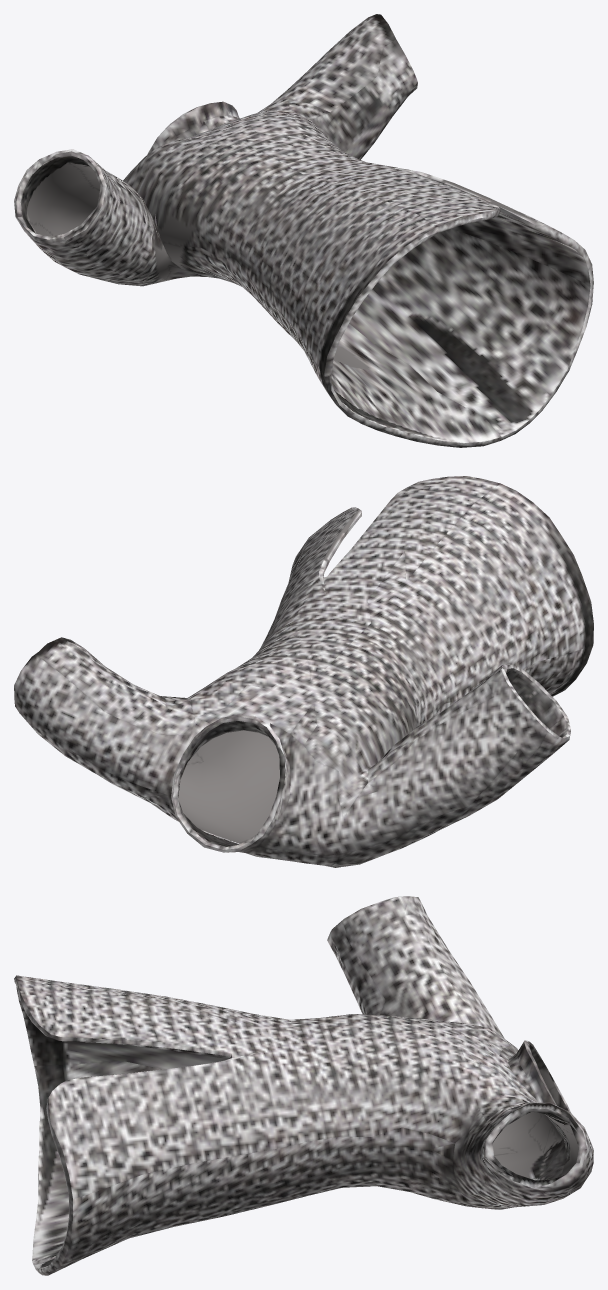
Rendered from item_mm9_10101.glb.
The picture shows the model from 3 angles, top to bottom: view 1: azimuth 30°, elevation 25°; view 2: azimuth 150°, elevation 25°; view 3: azimuth 270°, elevation 25°; orthographic projection. The views are drawn at different scales.
Visible parts, largest first — view 1: d10101; view 2: d10101; view 3: d10101.
Part boxes in pixels (x1,y1,x2,y2): d10101: (14, 14, 593, 447); d10101: (14, 476, 593, 867); d10101: (14, 896, 593, 1275).
Bounding box in the file's own units: 0.9887 × 0.4926 × 1.03.
1 material, 1 textured.
